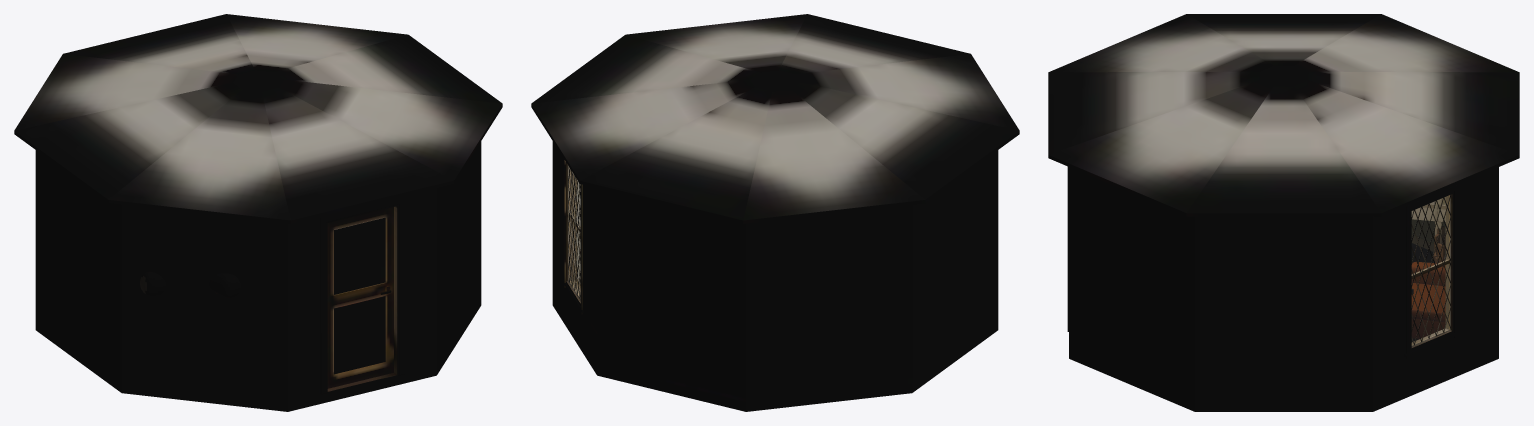
The model's file is she-d.glb.
3 views of the same model, side by side, from view 1: azimuth 30°, elevation 25°; view 2: azimuth 150°, elevation 25°; view 3: azimuth 270°, elevation 25° (orthographic). The views are drawn at different scales.
Parts seen in each view (by area): view 1: ceiling, wall_south, wall_west, wall_east, floor, obj__loft__mesh; view 2: ceiling, wall_west, wall_north, floor; view 3: ceiling, wall_east, wall_north, floor, obj__armchair__mesh, wall_west, obj__loft__mesh.
Boxes of the visible parts, box(x1,y1,x2,y2) form: ceiling: box(14, 14, 502, 223); wall_south: box(121, 188, 436, 401); wall_west: box(35, 150, 121, 382); wall_east: box(436, 141, 481, 365); floor: box(35, 296, 481, 411); obj__loft__mesh: box(140, 271, 241, 297); ceiling: box(531, 14, 1019, 223); wall_west: box(746, 150, 998, 401); wall_north: box(552, 141, 745, 401); floor: box(552, 296, 998, 411); ceiling: box(1048, 14, 1519, 216); wall_east: box(1069, 167, 1372, 401); wall_north: box(1373, 167, 1498, 401); floor: box(1069, 243, 1498, 411); obj__armchair__mesh: box(1411, 262, 1445, 339); wall_west: box(1411, 219, 1445, 251); obj__loft__mesh: box(1411, 197, 1445, 243).
Size of the model in its own units: 5 by 2.87 by 5.
Materials: 2 (1 with a texture image).
